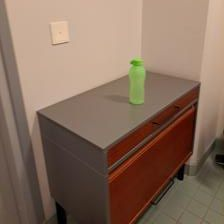bottle: (127, 55, 147, 105)
